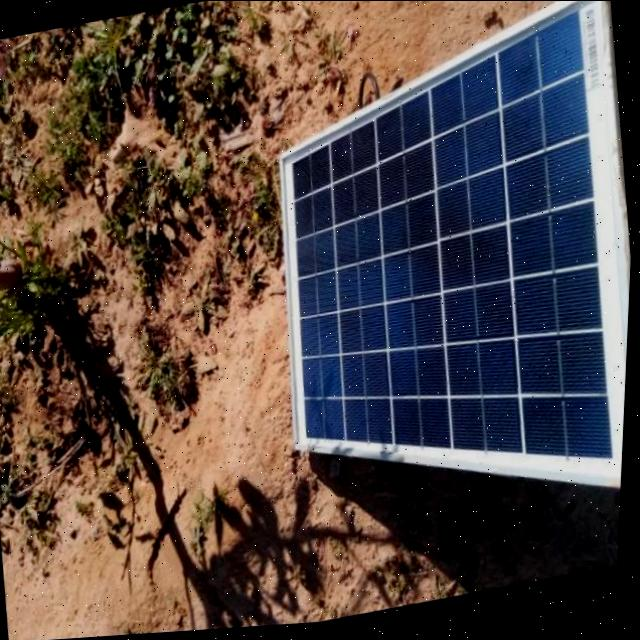Normal Solar Panel: (247, 0, 640, 554)
